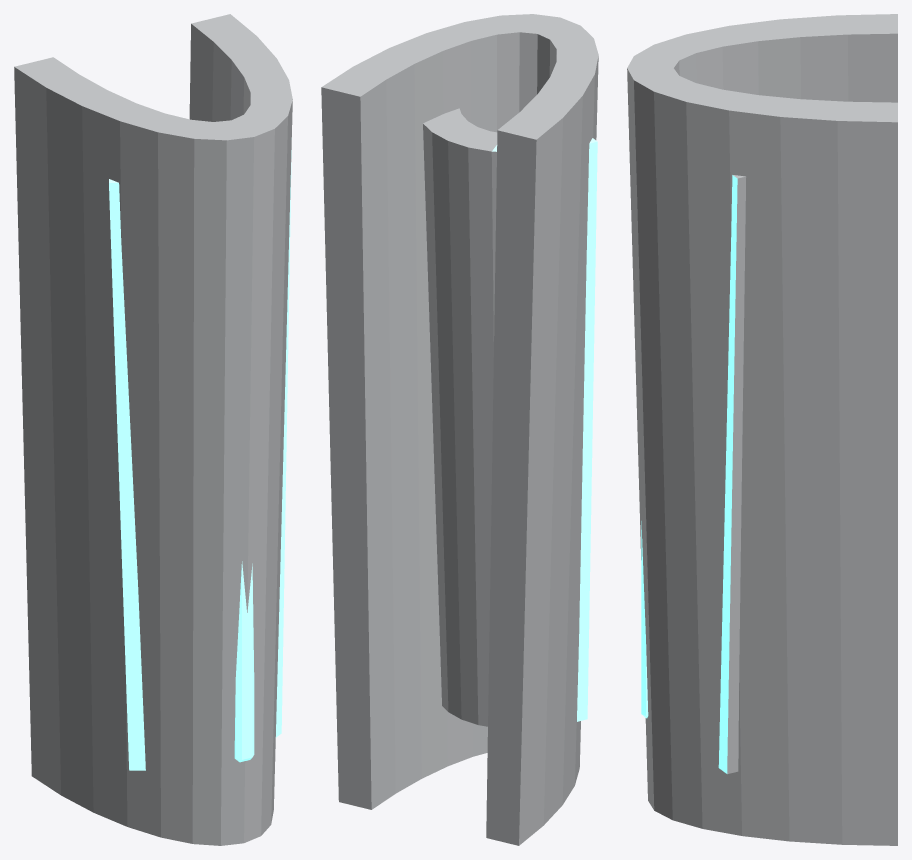
File: left_shin__stream_shin.glb
The picture shows the model from 3 angles, left to right: view 1: azimuth 30°, elevation 25°; view 2: azimuth 150°, elevation 25°; view 3: azimuth 270°, elevation 25°; orthographic projection. The views are drawn at different scales.
Visible parts, largest first — view 1: armor_armor_left_shin__stream_shin_v001_v001; view 2: armor_armor_left_shin__stream_shin_v001_v001; view 3: armor_armor_left_shin__stream_shin_v001_v001.
Boxes of the visible parts, box(x1,y1,x2,y2) form: armor_armor_left_shin__stream_shin_v001_v001: box(14, 14, 292, 845); armor_armor_left_shin__stream_shin_v001_v001: box(321, 14, 598, 845); armor_armor_left_shin__stream_shin_v001_v001: box(627, 14, 897, 845).
Size of the model in its own units: 0.1078 by 0.34 by 0.1139.
